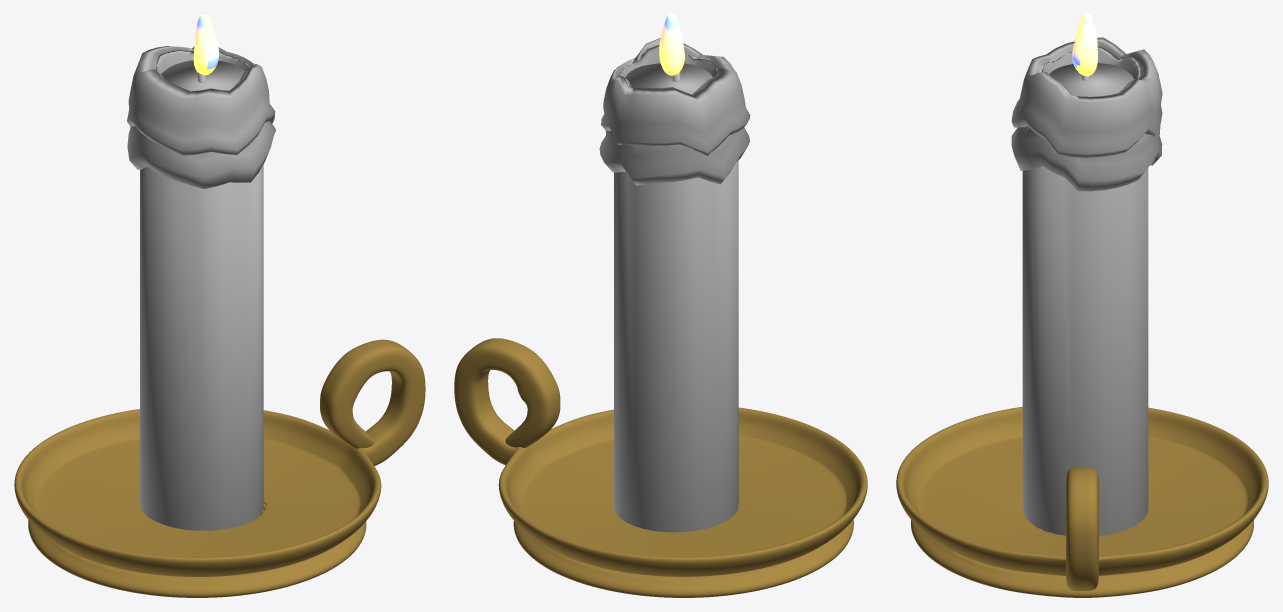
Rendered from Candle.glb.
3 views of the same model, side by side, from view 1: azimuth 30°, elevation 25°; view 2: azimuth 150°, elevation 25°; view 3: azimuth 270°, elevation 25° (orthographic).
Parts seen in each view (by area): view 1: Candle, Holder, Flame; view 2: Candle, Holder, Flame; view 3: Candle, Holder, Flame.
Part boxes in pixels (x1,y1,x2,y2): Candle: (127,46,275,530); Holder: (14,339,425,597); Flame: (193,14,219,75); Candle: (599,38,750,532); Holder: (454,338,867,597); Flame: (659,14,684,75); Candle: (1011,37,1162,535); Holder: (896,406,1268,597); Flame: (1072,14,1097,76).
Bounding box in the file's own units: 7.12 × 9.07 × 5.92.
